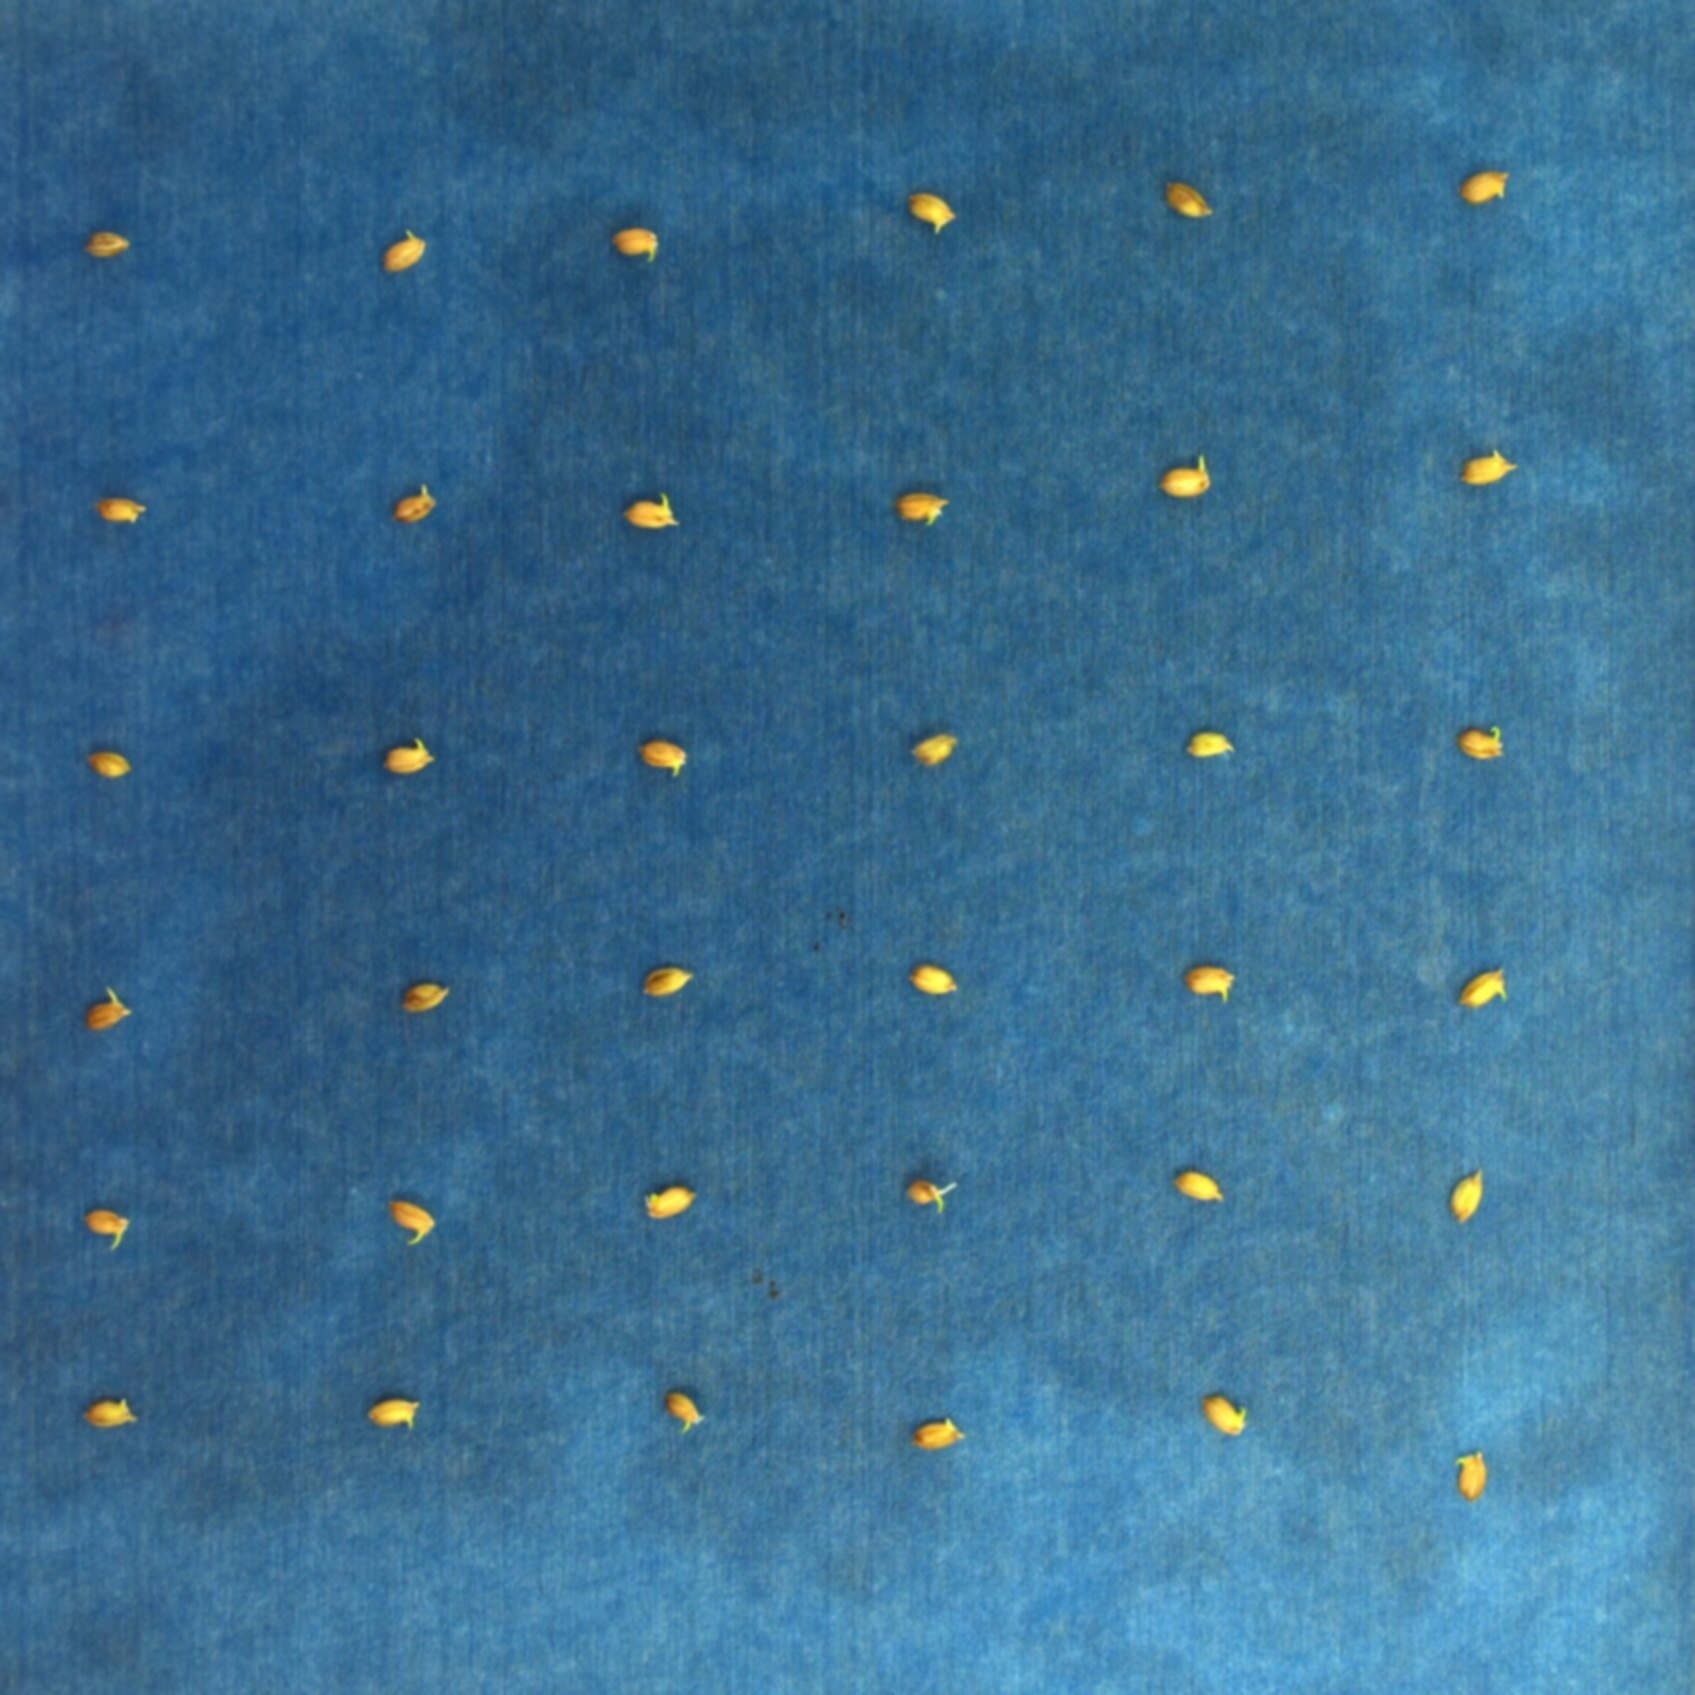not sprout: (621, 490, 685, 532), (386, 1197, 438, 1248), (1159, 453, 1215, 500), (1184, 962, 1242, 1004), (636, 736, 691, 779), (906, 188, 958, 233), (1458, 965, 1509, 1009), (1461, 165, 1513, 206), (1461, 447, 1520, 484), (85, 986, 132, 1032), (81, 1205, 130, 1248), (1448, 1167, 1485, 1225), (903, 1177, 964, 1211), (1456, 723, 1510, 761), (1161, 177, 1211, 217), (646, 1181, 695, 1222), (896, 487, 951, 523), (383, 736, 435, 775), (664, 1389, 705, 1437), (1177, 1166, 1226, 1205), (1203, 1392, 1246, 1436), (404, 975, 452, 1014), (365, 1397, 424, 1428), (385, 233, 427, 276), (911, 1416, 967, 1447), (913, 731, 959, 767), (911, 961, 959, 995), (87, 1395, 137, 1428), (615, 225, 660, 261), (641, 965, 692, 997), (391, 484, 433, 522), (1456, 1448, 1485, 1501), (95, 497, 147, 525), (84, 230, 133, 258), (85, 750, 130, 779), (1187, 733, 1236, 759)
